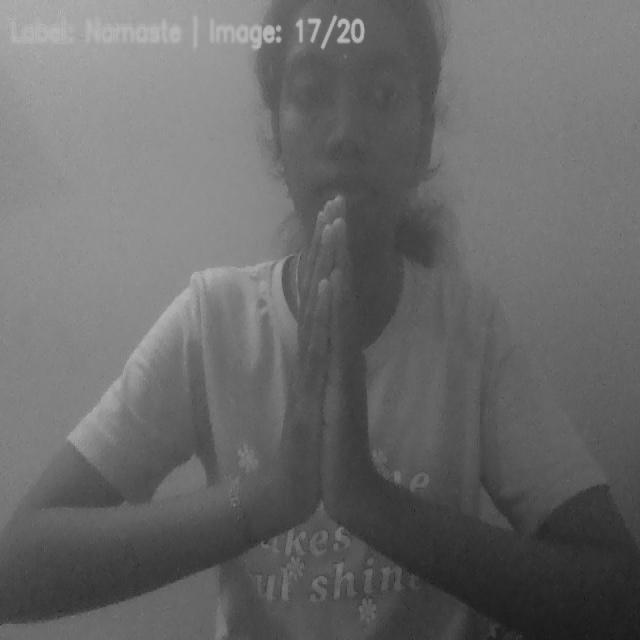Namaste: (281, 188, 375, 534)
